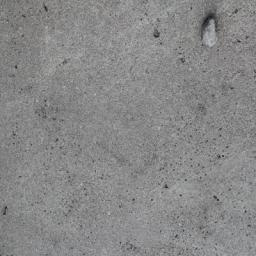FOD: (199, 14, 221, 51)
